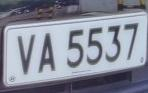3: (103, 20, 123, 64)
5: (64, 25, 87, 76), (84, 25, 106, 74)
7: (121, 19, 142, 68)
A: (37, 28, 60, 79)
V: (15, 30, 38, 79)
